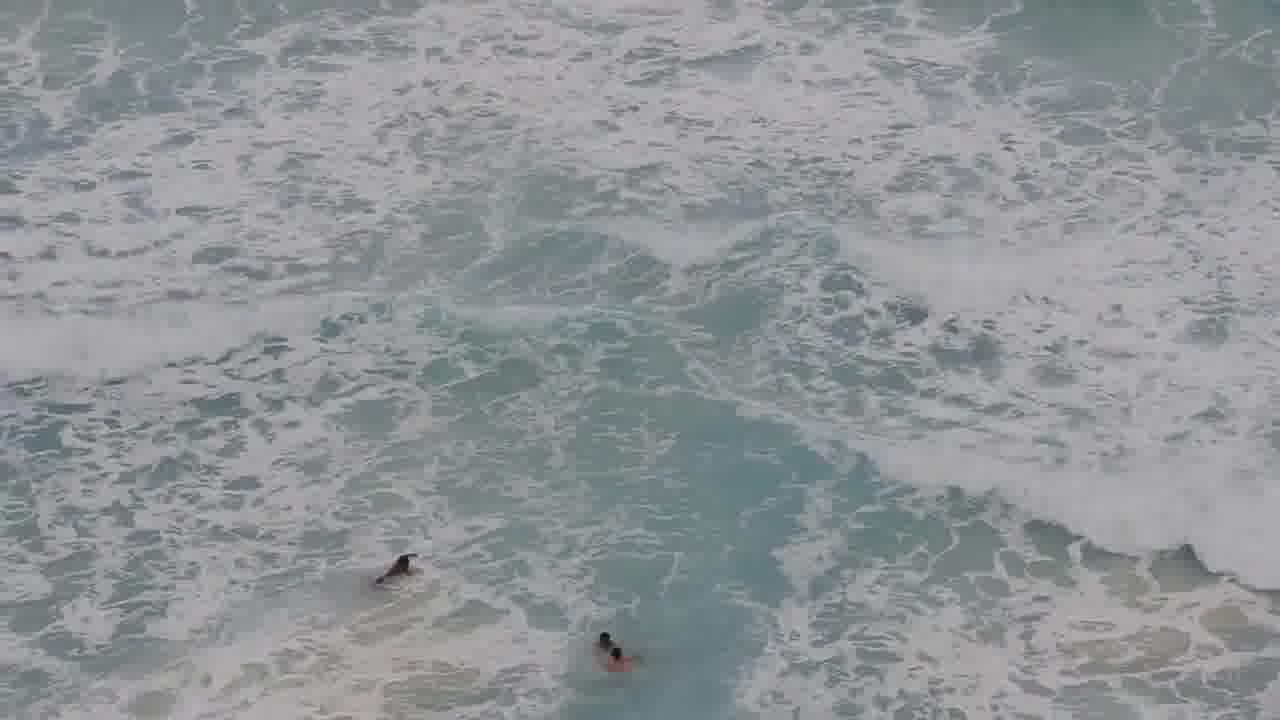swimmer: (382, 548, 420, 590), (586, 617, 614, 647), (611, 645, 627, 667)
